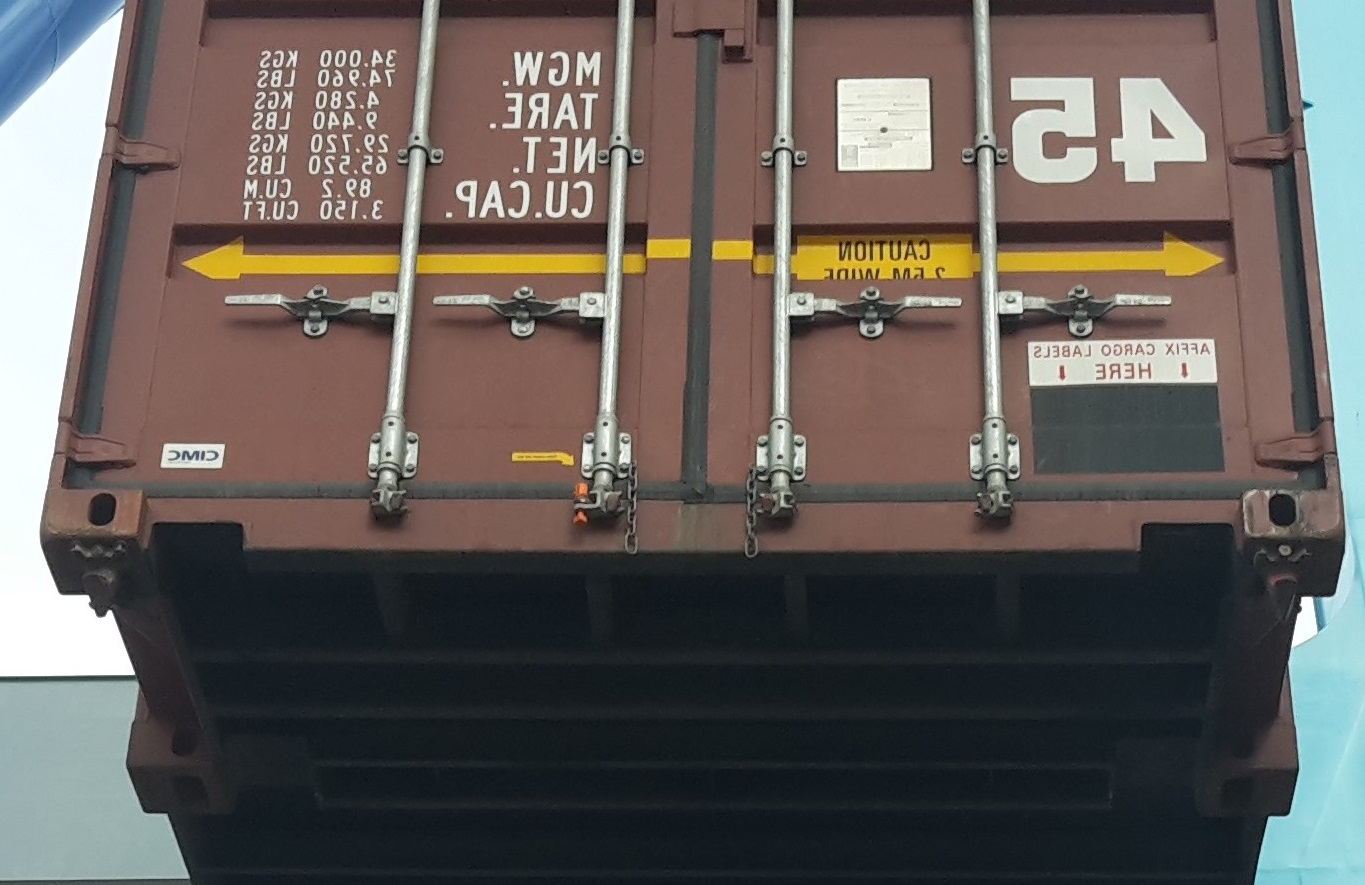container_door: (21, 1, 1330, 546)
